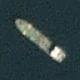ship: (0, 0, 28, 29)
